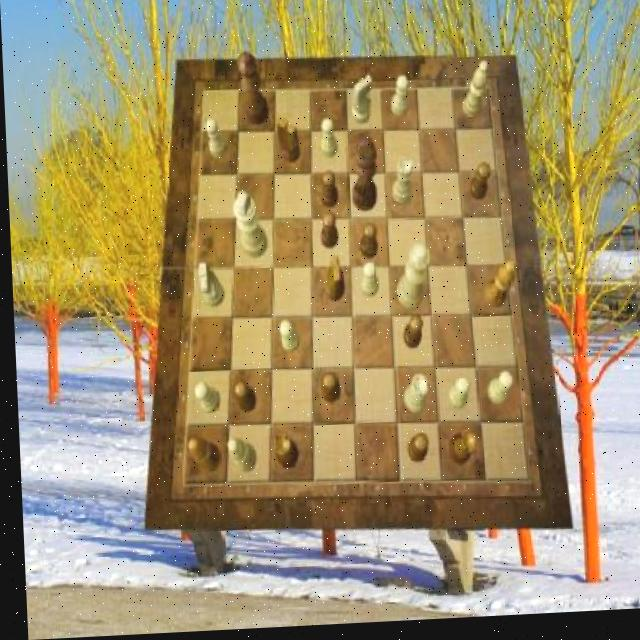bishop: (481, 266, 515, 315), (185, 438, 217, 475)
black-bishop: (348, 140, 377, 216)
black-king: (276, 119, 300, 165), (322, 259, 344, 305)
black-knight: (467, 168, 491, 205), (399, 319, 420, 354), (231, 383, 253, 416), (356, 227, 375, 263), (319, 216, 337, 253), (318, 375, 338, 408), (319, 175, 337, 211), (403, 437, 425, 465)
black-pawn: (236, 53, 268, 128)
black-queen: (445, 434, 474, 469), (269, 435, 295, 472)
black-rook: (460, 65, 489, 124), (224, 440, 254, 477)
white-bishop: (232, 193, 267, 260)
white-king: (350, 79, 374, 129), (196, 264, 222, 310)
white-knight: (190, 384, 216, 418), (485, 377, 510, 412), (443, 381, 468, 415), (205, 122, 226, 161), (390, 79, 409, 121), (319, 122, 337, 163), (276, 324, 297, 357), (358, 265, 376, 302)
white-pawn: (392, 248, 430, 315)
white-queen: (389, 160, 413, 207), (400, 379, 426, 418)
